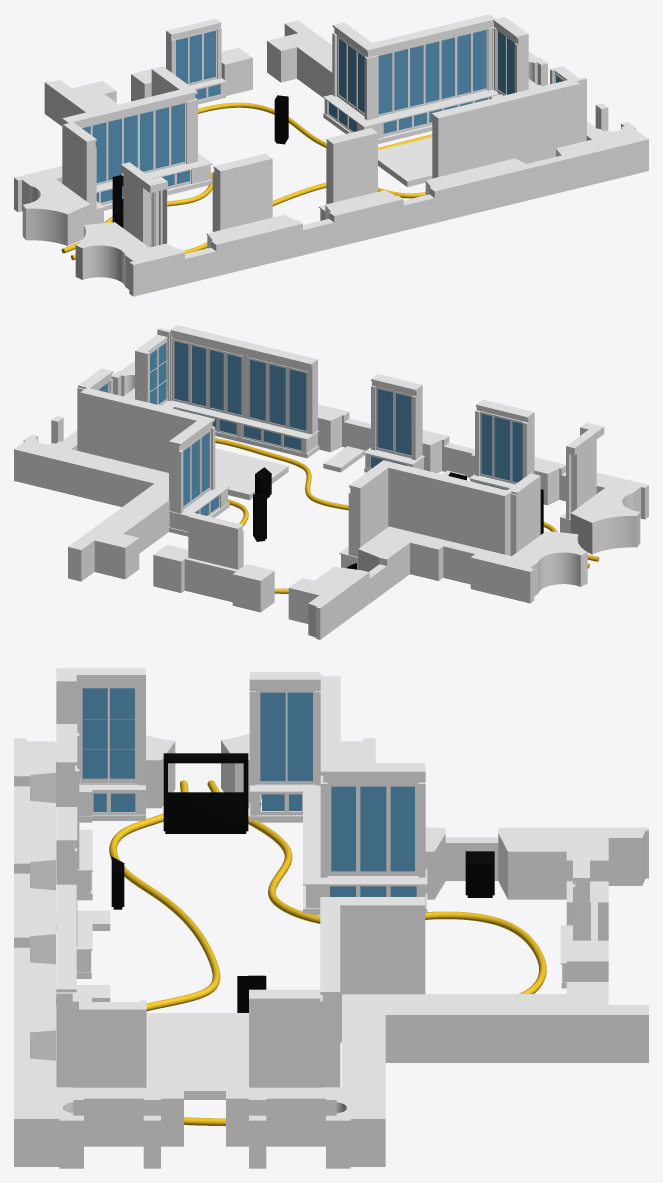
Rendered from Sala4.obj.
3 views of the same model, one above another, from view 1: azimuth 30°, elevation 25°; view 2: azimuth 150°, elevation 25°; view 3: azimuth 270°, elevation 25° (orthographic). The views are drawn at different scales.
Visible parts, largest first — view 1: Oggetto_15, Mesh135_Group88_Group76_Model_66, Oggetto_3, Oggetto_8, Oggetto_16, Oggetto_12, Oggetto_4, Mesh139_Group89_Model_5, Oggetto_9, Oggetto_2, Mesh1_Group1_Model, Mesh119_Group75_Model_27 (+46 smaller); view 2: Oggetto_16, Oggetto_8, Mesh159_Group101_Model_5, Mesh141_Group92_Model_2, Oggetto_13, Oggetto_3, Oggetto_9, Mesh1_Group1_Model, Oggetto_15, Mesh153_Group99_Model_18, Oggetto_2, Oggetto_12 (+35 smaller); view 3: Oggetto_16, Oggetto_15, Oggetto_9, Mesh1_Group1_Model, Mesh140_Group91_Model_72, Oggetto_2, Mesh801_Group120_Group106_Model, Mesh129_Group80_Group77_Group76_Model, Mesh143_Group93_Model_108, Oggetto_3, Oggetto_8, Oggetto_12 (+42 smaller).
Part boxes in pixels (bbox=[...]): Oggetto_15: bbox=[425, 121, 648, 222]; Mesh135_Group88_Group76_Model_66: bbox=[442, 94, 578, 175]; Oggetto_3: bbox=[75, 222, 184, 296]; Oggetto_8: bbox=[14, 166, 90, 245]; Oggetto_16: bbox=[267, 20, 547, 97]; Oggetto_12: bbox=[207, 214, 302, 276]; Oggetto_4: bbox=[325, 190, 403, 247]; Mesh139_Group89_Model_5: bbox=[220, 158, 272, 230]; Oggetto_9: bbox=[44, 80, 118, 126]; Oggetto_2: bbox=[61, 102, 432, 259]; Mesh1_Group1_Model: bbox=[378, 137, 432, 186]; Mesh119_Group75_Model_27: bbox=[337, 141, 373, 201]; Oggetto_16: bbox=[14, 430, 169, 581]; Oggetto_8: bbox=[358, 526, 587, 603]; Mesh159_Group101_Model_5: bbox=[388, 468, 504, 554]; Mesh141_Group92_Model_2: bbox=[80, 392, 196, 472]; Oggetto_13: bbox=[153, 544, 274, 612]; Oggetto_3: bbox=[570, 472, 648, 554]; Oggetto_9: bbox=[288, 566, 369, 639]; Mesh1_Group1_Model: bbox=[215, 448, 288, 500]; Oggetto_15: bbox=[111, 361, 349, 452]; Mesh153_Group99_Model_18: bbox=[363, 470, 388, 544]; Oggetto_2: bbox=[215, 438, 599, 593]; Oggetto_12: bbox=[471, 451, 565, 505]; Oggetto_16: bbox=[226, 982, 648, 1168]; Oggetto_15: bbox=[14, 960, 183, 1168]; Oggetto_9: bbox=[498, 827, 648, 899]; Mesh1_Group1_Model: bbox=[147, 1013, 248, 1099]; Mesh140_Group91_Model_72: bbox=[340, 908, 416, 1035]; Oggetto_2: bbox=[109, 780, 546, 1125]; Mesh801_Group120_Group106_Model: bbox=[163, 753, 248, 833]; Mesh129_Group80_Group77_Group76_Model: bbox=[79, 1012, 139, 1087]; Mesh143_Group93_Model_108: bbox=[257, 1010, 314, 1087]; Oggetto_3: bbox=[14, 735, 175, 808]; Oggetto_8: bbox=[221, 733, 445, 899]; Oggetto_12: bbox=[14, 799, 55, 890].
Size of what is drawn, in the model's own units: 0.0135 by 0.00229 by 0.00906.
